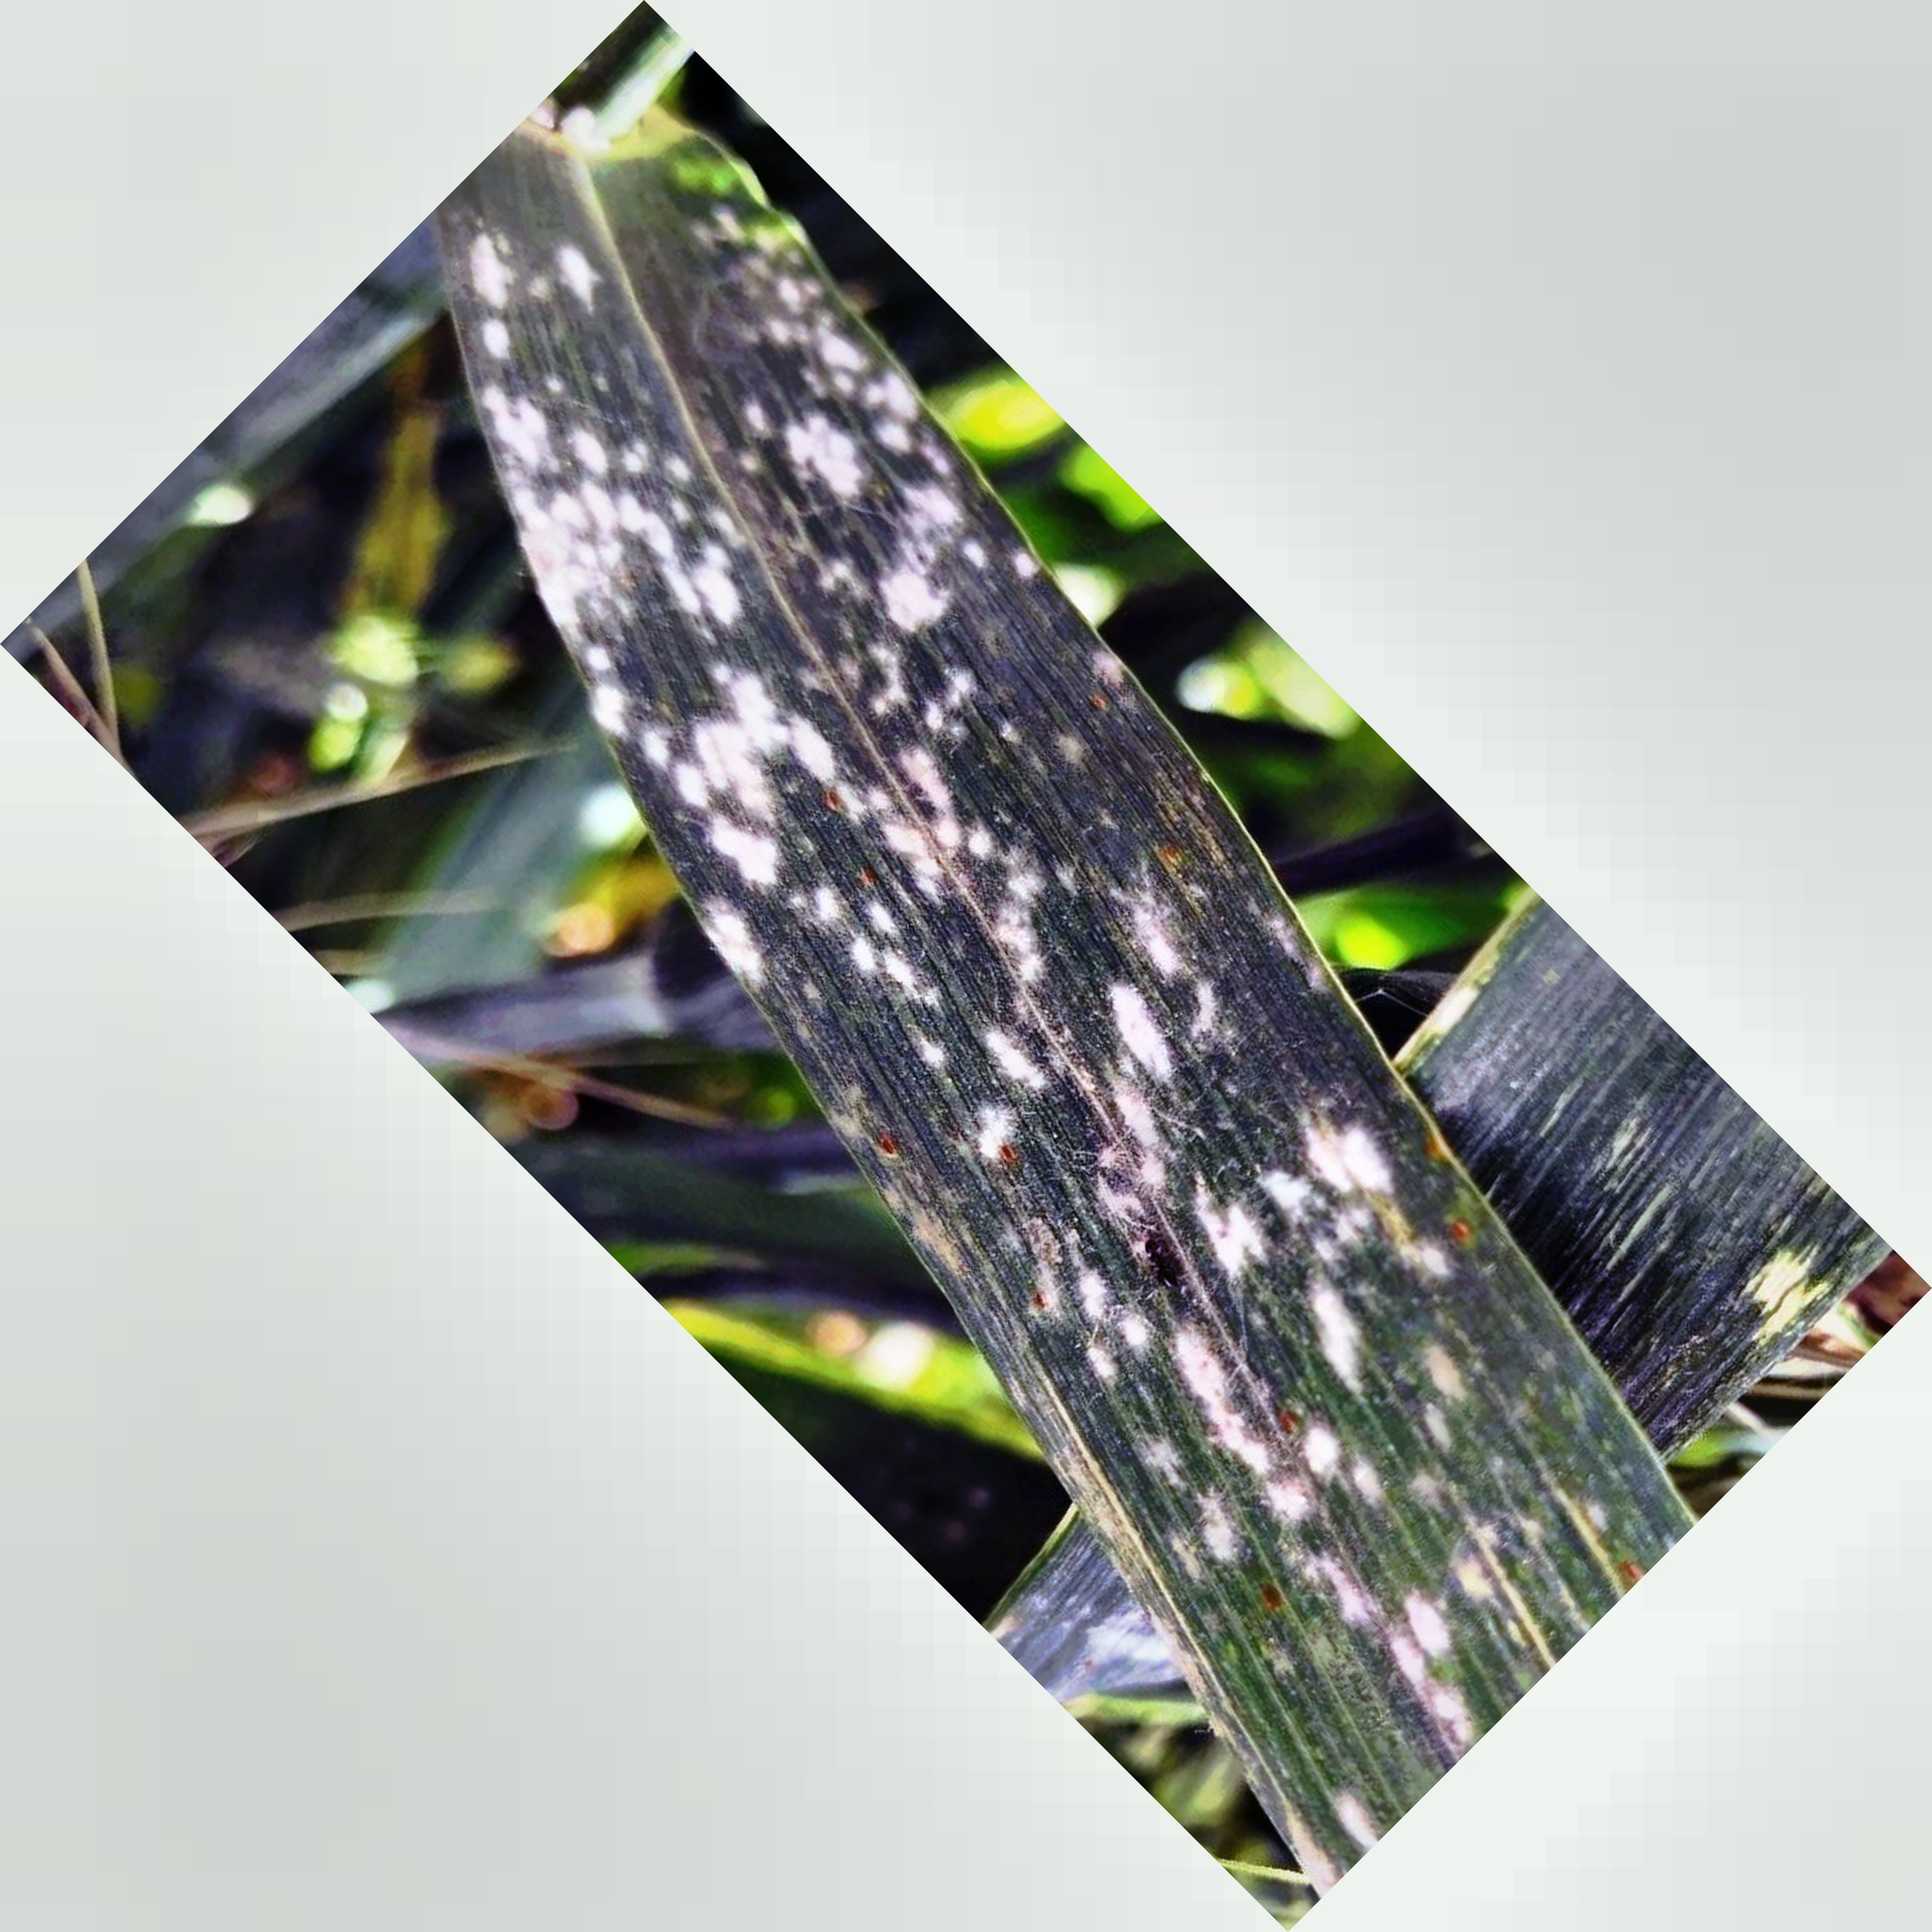Powdery Mildew: (474, 225, 1499, 1566)
